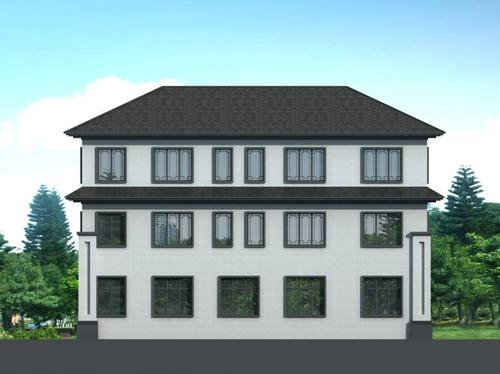buildings: (56, 90, 443, 349)
